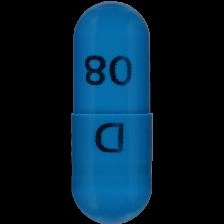61919-833: (0, 0, 224, 224)
